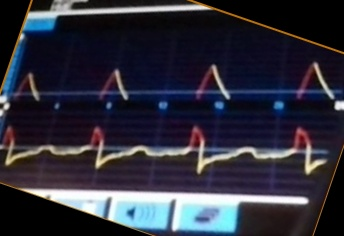Ineffective_effort Flow: (1, 121, 328, 181)
Ineffective_effort Volume: (14, 57, 335, 101)
